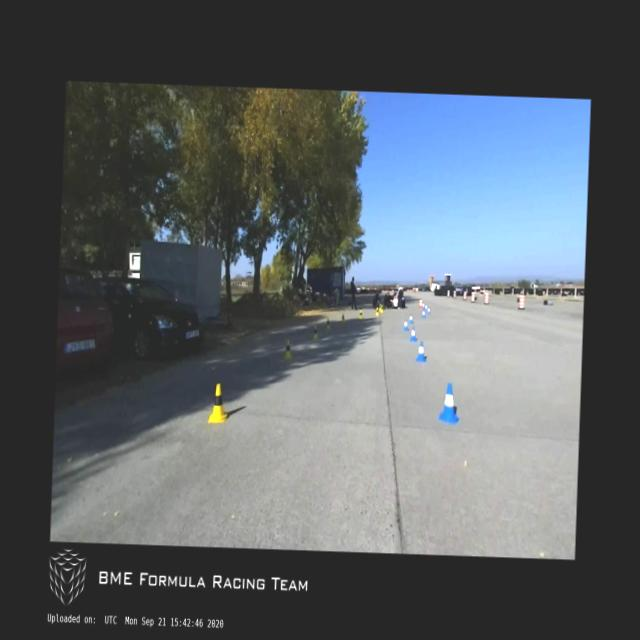blue_cone: (438, 382, 460, 422), (416, 341, 426, 362), (409, 325, 416, 341), (403, 318, 408, 332), (408, 313, 413, 323), (426, 306, 431, 315), (421, 308, 425, 318), (423, 304, 428, 312)
yellow_cone: (207, 383, 228, 422), (283, 339, 293, 360), (312, 325, 319, 341), (325, 316, 330, 329), (340, 312, 344, 322), (358, 309, 362, 319), (375, 306, 379, 316), (379, 304, 383, 312)
